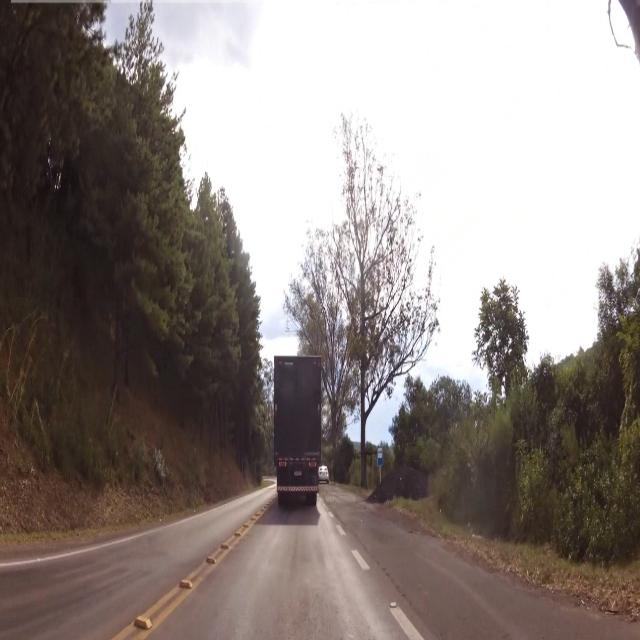S-14: (376, 447, 384, 470)
